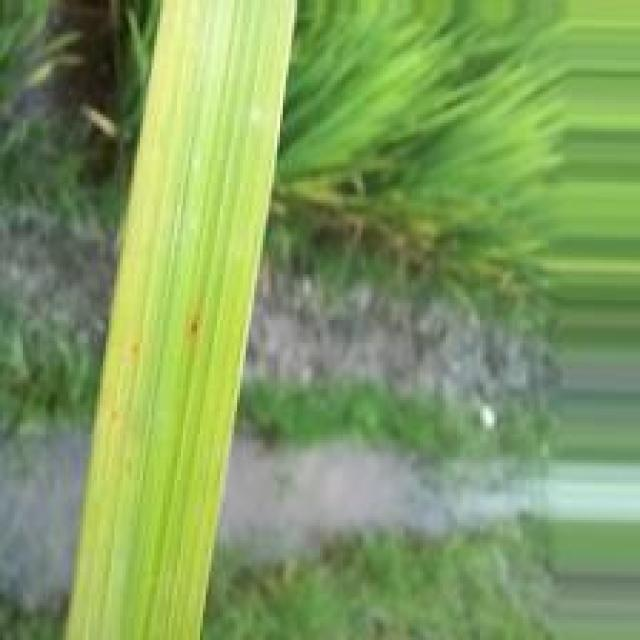Brown_Spot: (181, 322, 205, 343)
